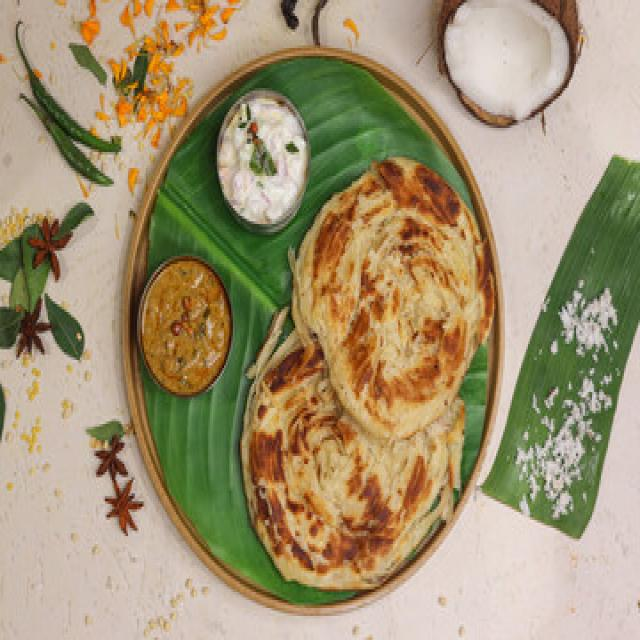KURMA: (137, 260, 231, 393)
PAROTTA: (236, 131, 511, 592)
WHITE CHUTNEY: (218, 97, 309, 230)
